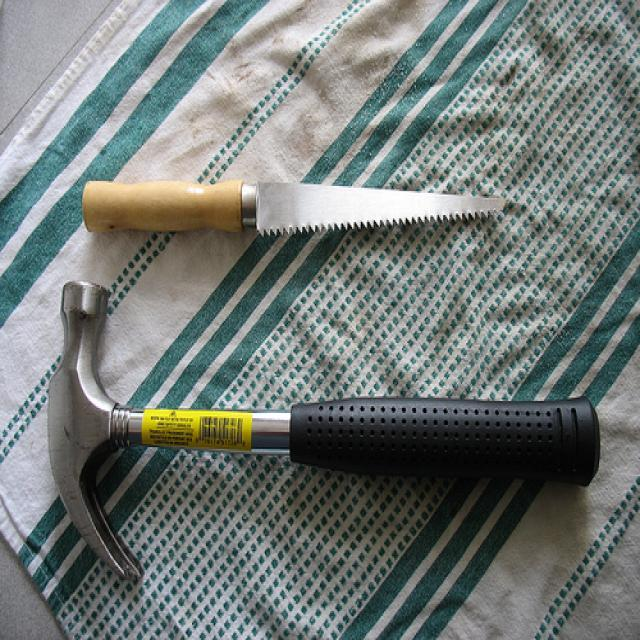hammer: (38, 274, 610, 594)
